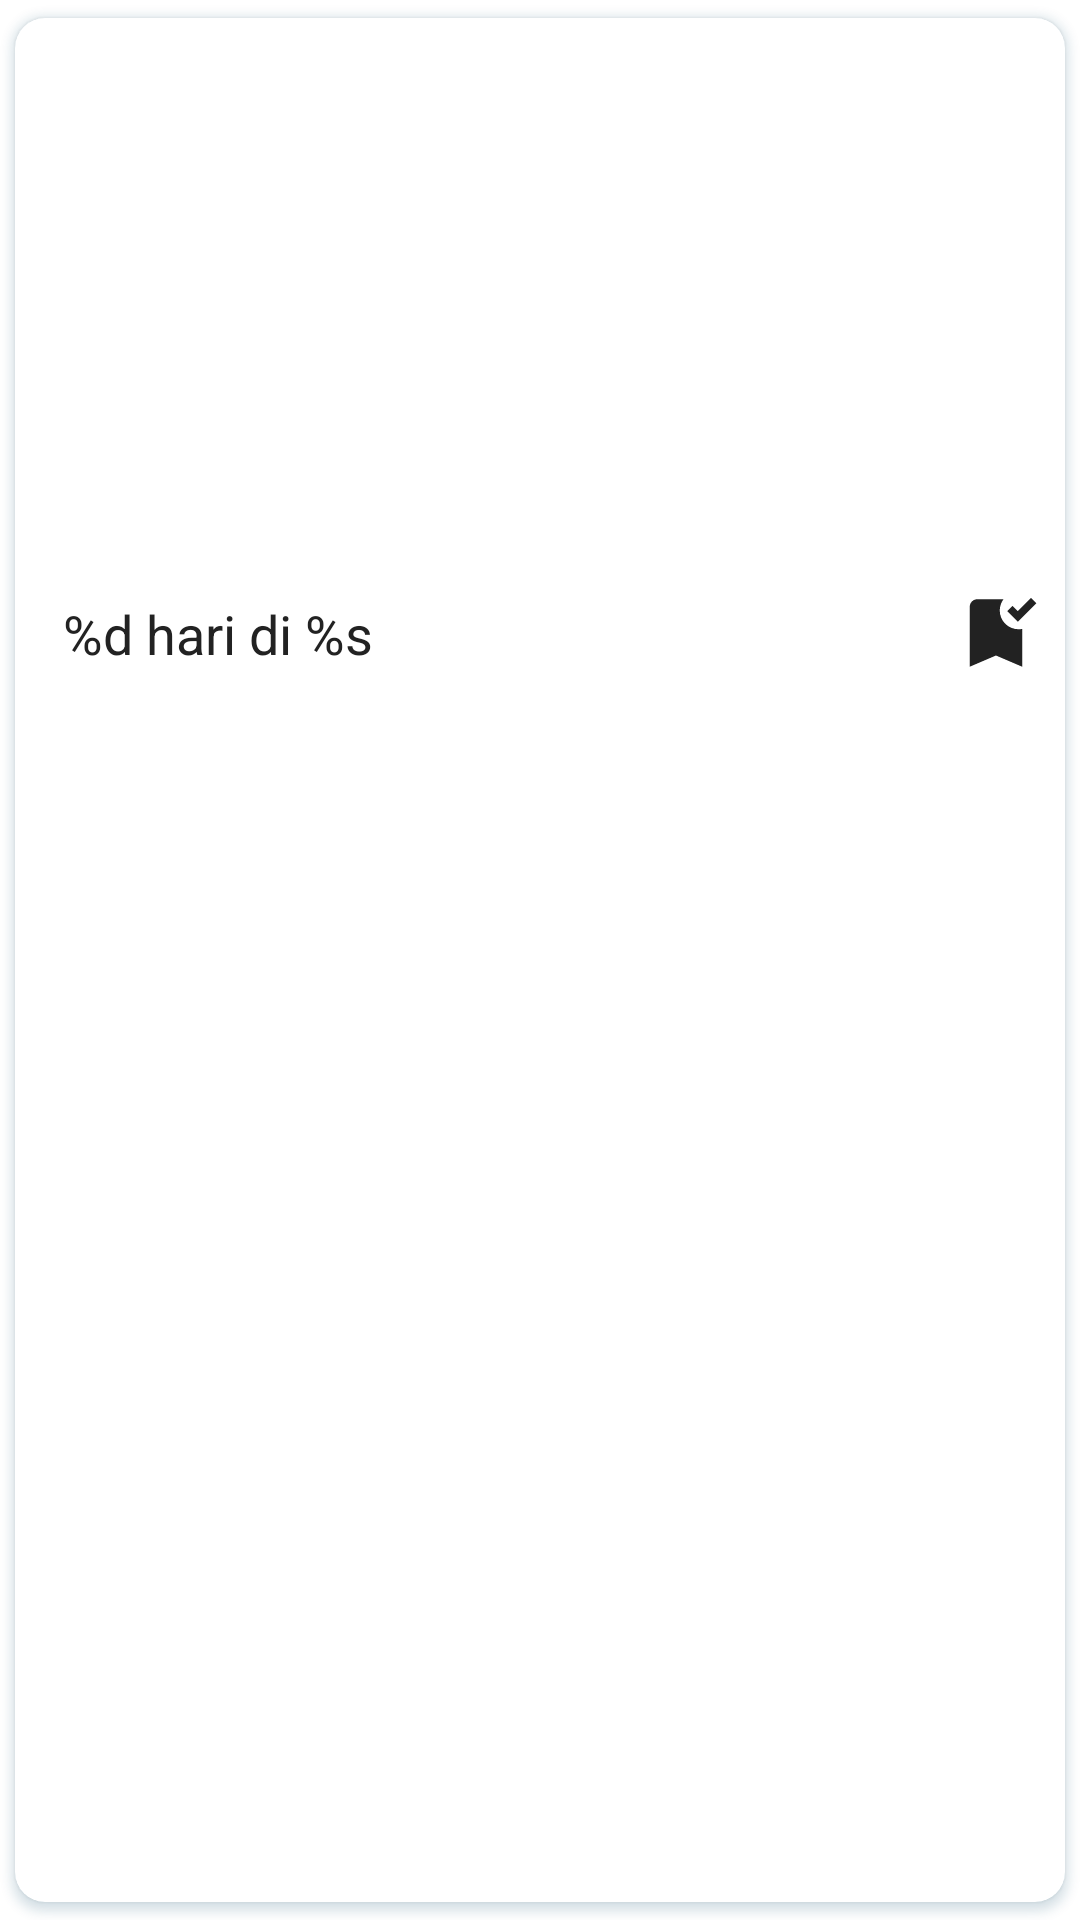

Icon click points for this 1080 × 1920 phone screenshot, format [x,y]:
bookmark added: [1003,632]
